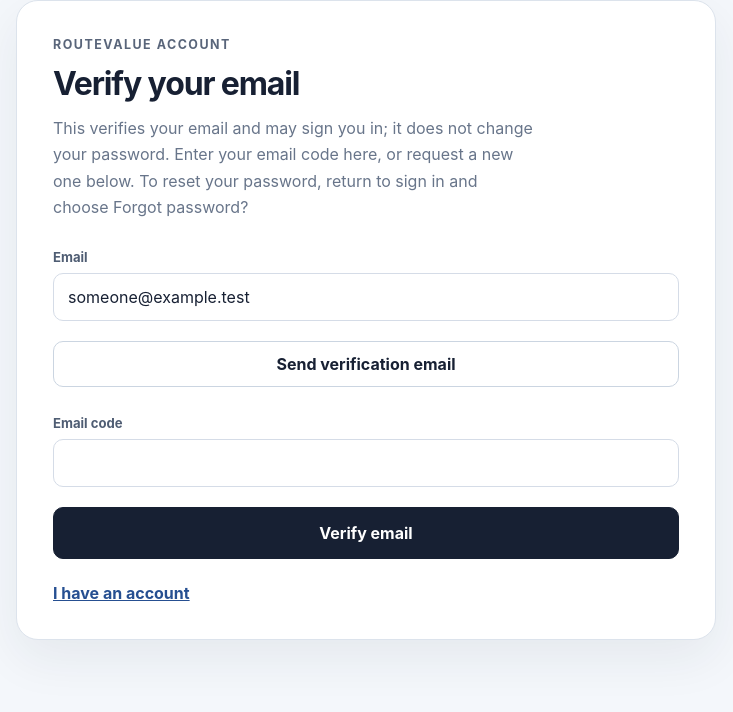
Test: handles the SDK-normalized invalid OTP error without a misleading generic failure
Type "000000" into the field labelled "Email code" at point(366, 463), box [53,439,679,487]
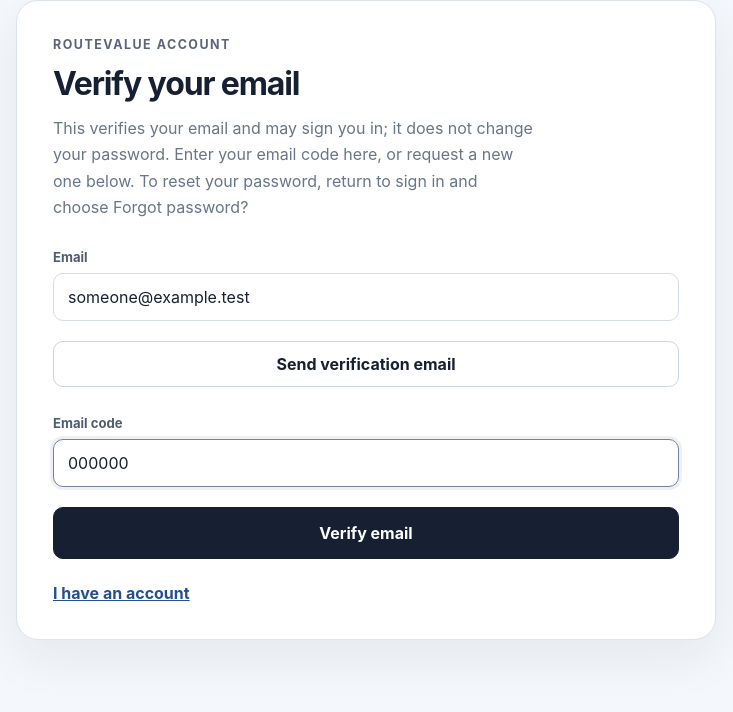
Click the button "Verify email" at point(366, 533), box [53,507,679,559]
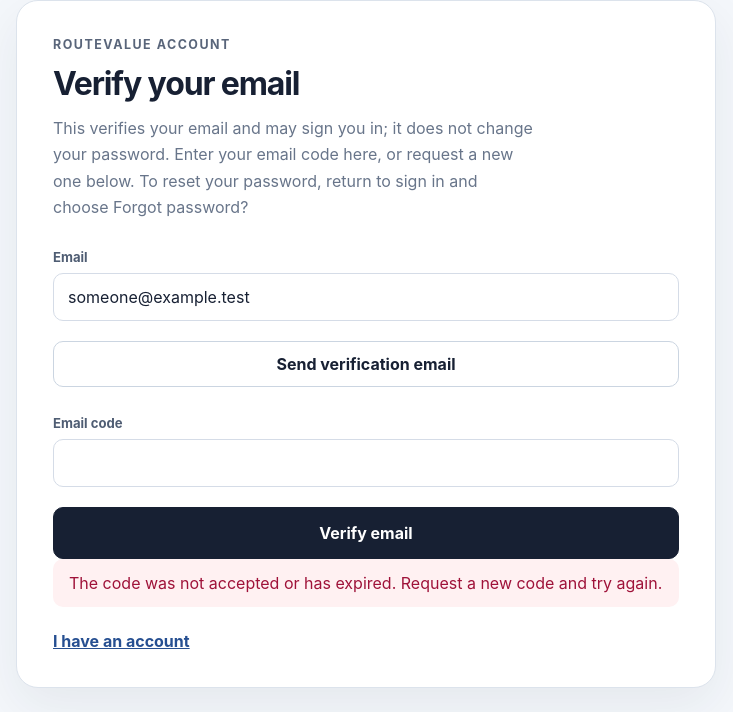
Expected: the message shows "not accepted or has expired", [69,573,662,593]
